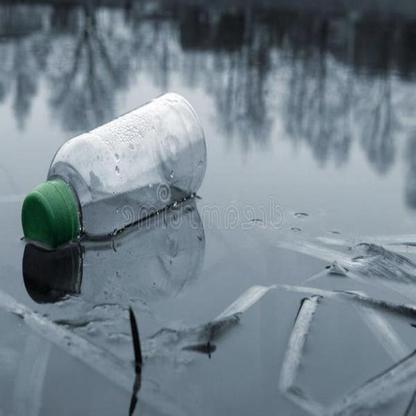plastic bottle: (21, 92, 207, 247)
